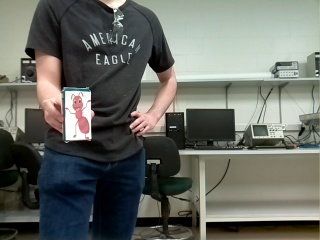Happy: (65, 92, 91, 140)
